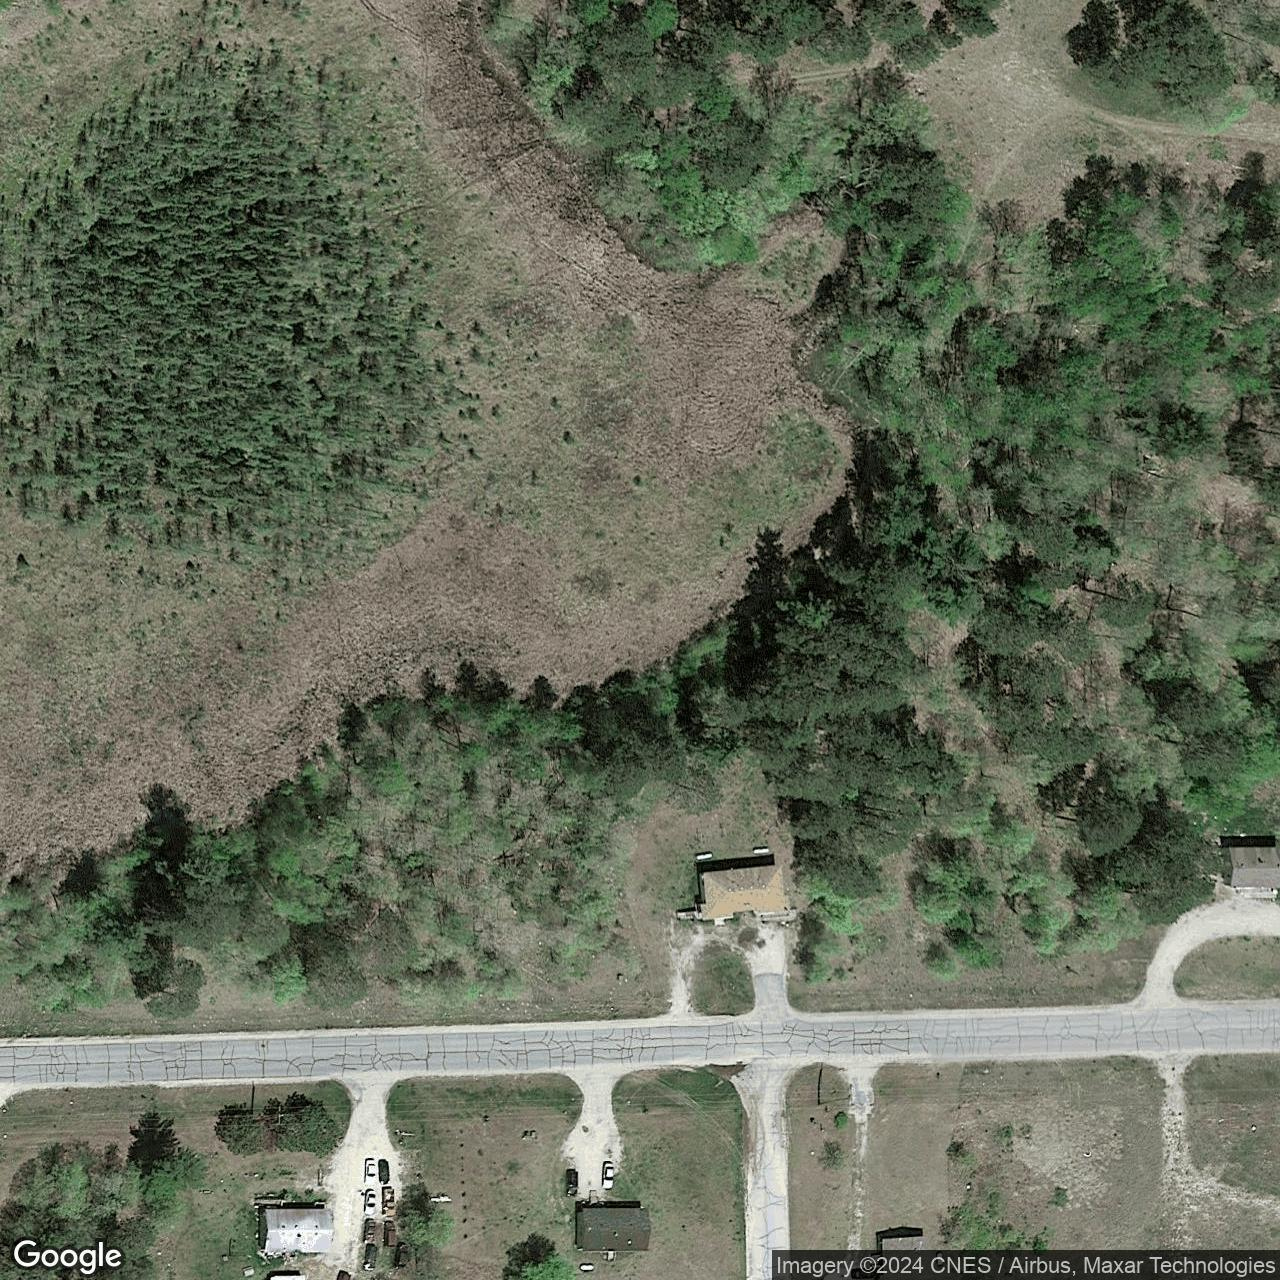House: (699, 863, 787, 922), (258, 1207, 336, 1254), (576, 1206, 653, 1252), (1220, 845, 1279, 890), (881, 1237, 926, 1250), (268, 1273, 306, 1280)
Propane: (695, 850, 714, 862), (751, 845, 770, 855), (578, 1262, 595, 1272)
